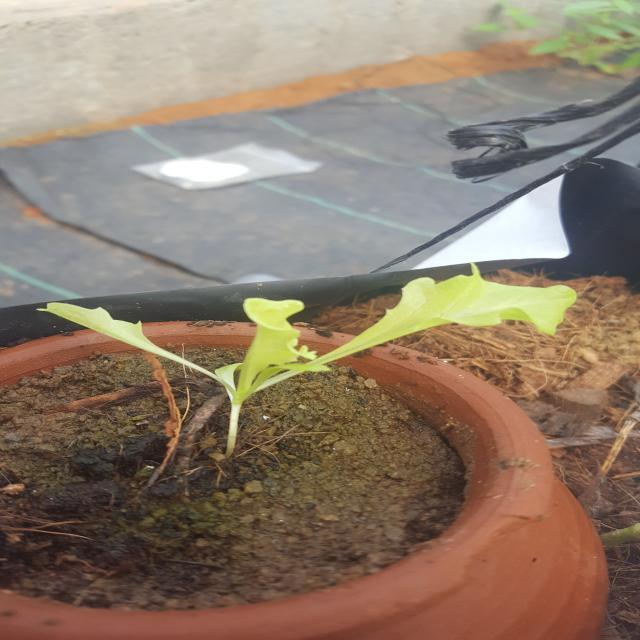Lettuce-Not-Ready-to-Harvest: (45, 274, 579, 439)
